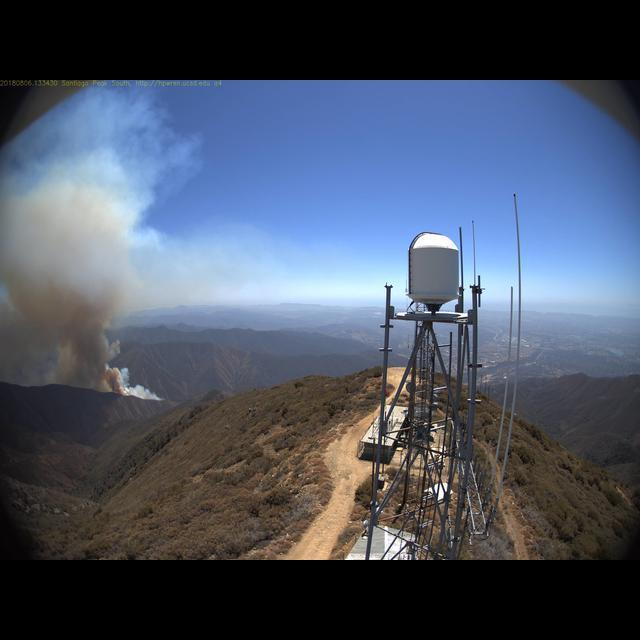Smoke: (1, 142, 163, 407)
